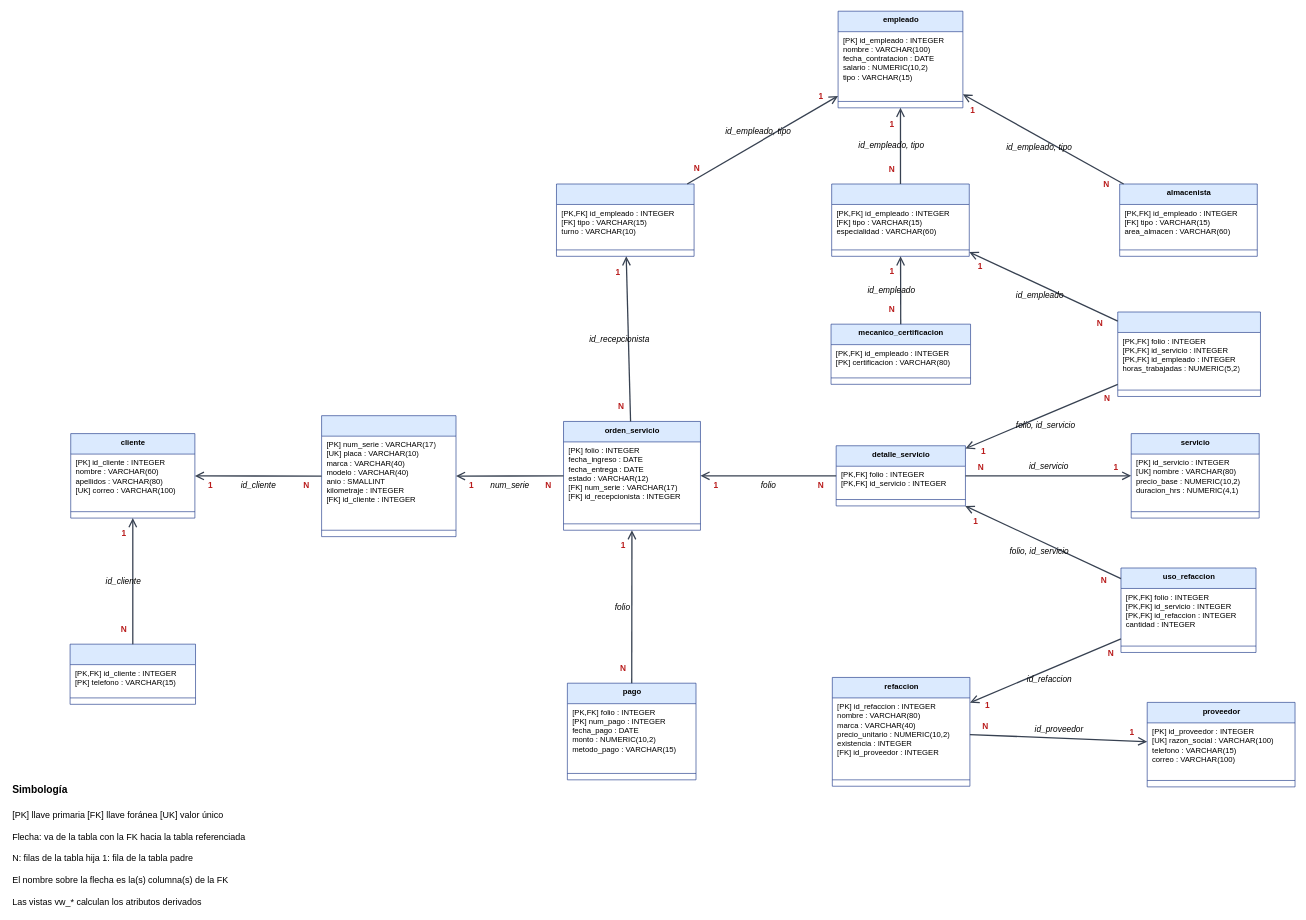
Image size: 1306x920. Some labels were removed from this diagram. The box of each missing label's shape, as (x1, y1, x2, y2) in pixels:
cliente_telefono: (69, 644, 196, 704)
ejecucion: (1117, 311, 1260, 396)
mecanico: (831, 183, 969, 256)
recepcionista: (556, 183, 694, 256)
vehiculo: (321, 415, 456, 537)
